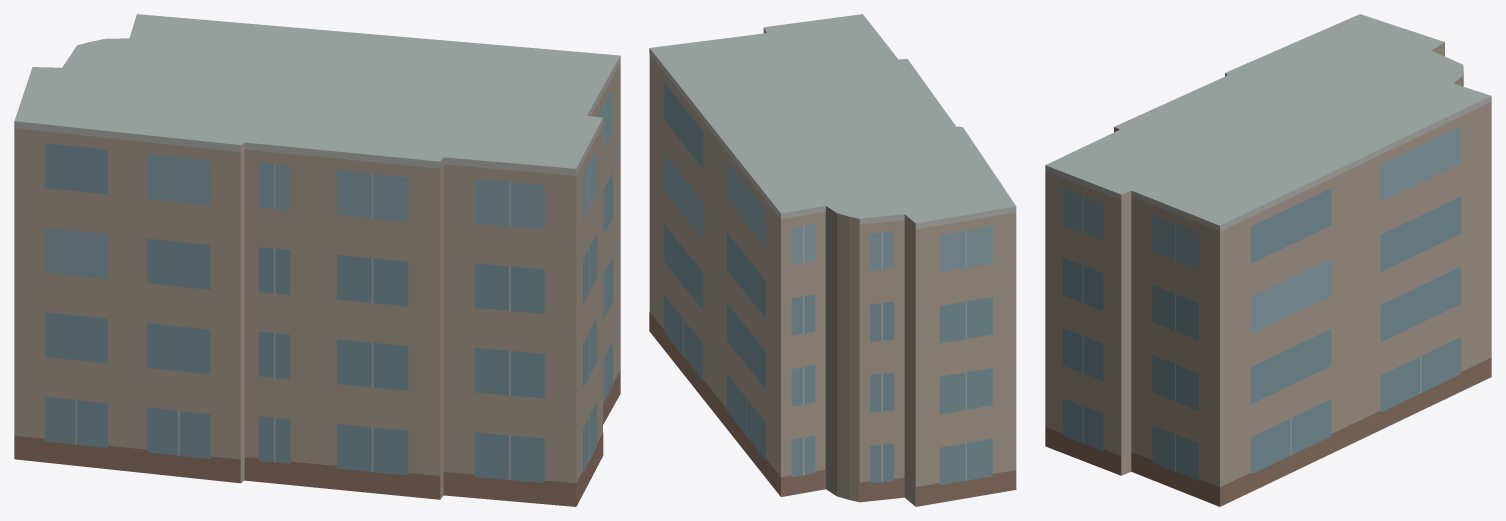
The model's file is survey-upis-32992545.glb.
3 renders of one model, left to right at view 1: azimuth 30°, elevation 25°; view 2: azimuth 150°, elevation 25°; view 3: azimuth 270°, elevation 25°, orthographic. The views are drawn at different scales.
Parts seen in each view (by area): view 1: survey-upis-32992545.tmp; view 2: survey-upis-32992545.tmp; view 3: survey-upis-32992545.tmp.
Part boxes in pixels (x1=…): survey-upis-32992545.tmp: x1=14, y1=14, x2=620, y2=506; survey-upis-32992545.tmp: x1=649, y1=14, x2=1016, y2=506; survey-upis-32992545.tmp: x1=1045, y1=14, x2=1491, y2=506.
Bounding box in the file's own units: 18.99 × 11.75 × 16.92.
